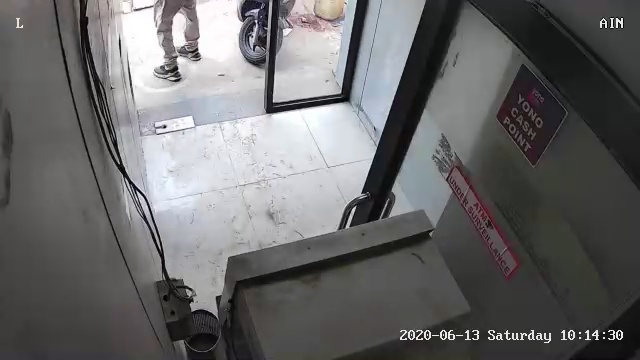open: (112, 3, 371, 133)
